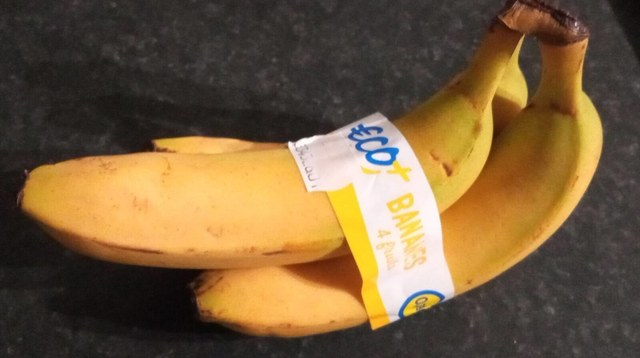Banane: (32, 18, 608, 340)
